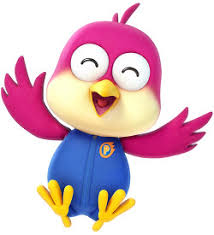Harry: (1, 1, 214, 233)
